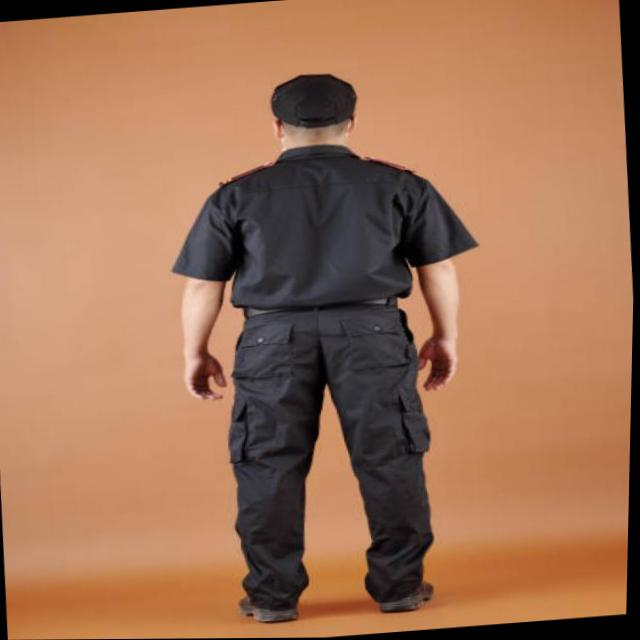no helmet: (258, 61, 374, 159)
